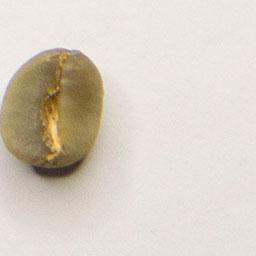premium: (0, 45, 108, 175)
